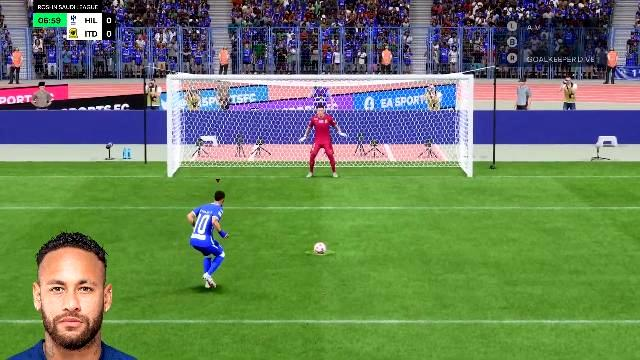bottom-left: (177, 136, 281, 180)
bottom-right: (372, 138, 466, 178)
center-down: (282, 138, 368, 180)
center-up: (280, 81, 368, 135)
circle: (306, 250, 336, 254)
football: (314, 243, 326, 252)
goalkeeper: (302, 107, 342, 181)
player: (181, 189, 237, 287)
top-left: (176, 82, 278, 134)
top-right: (370, 81, 466, 134)
